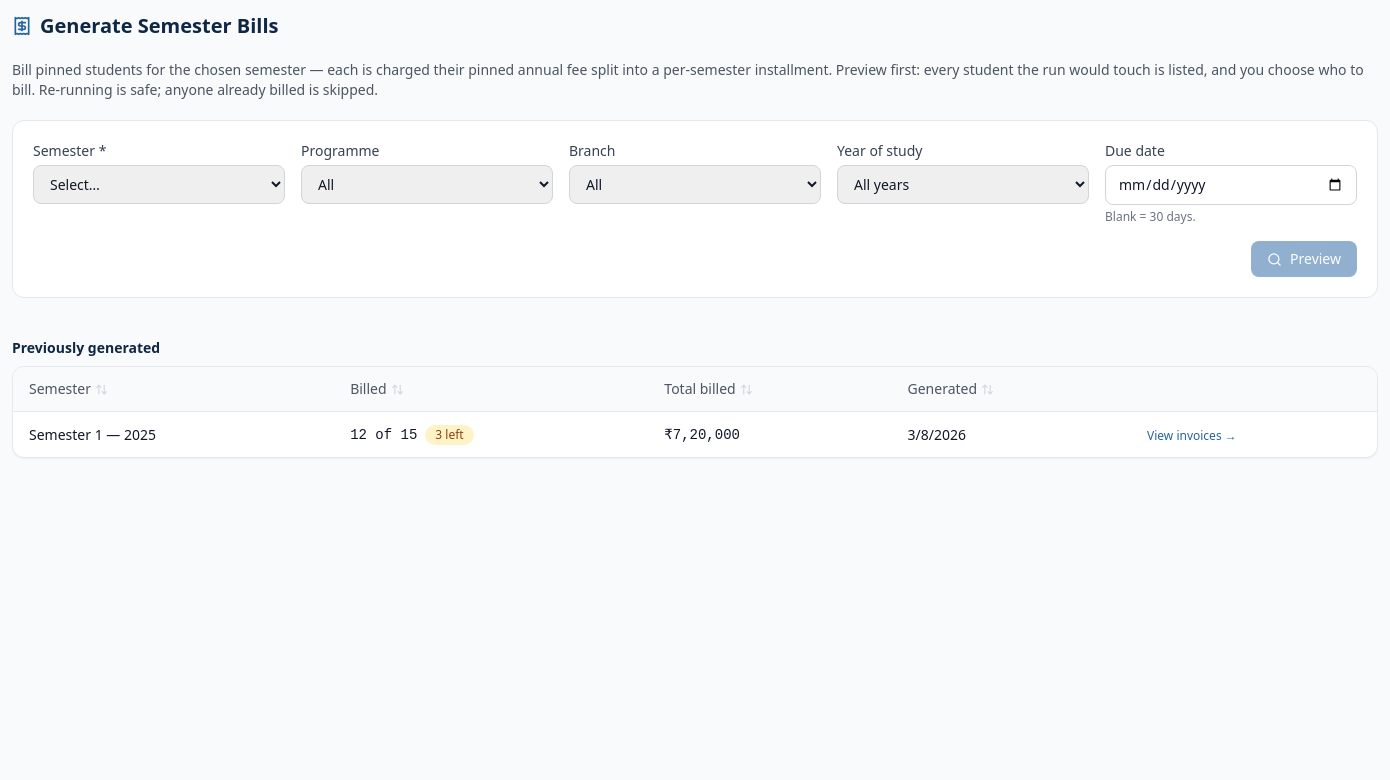
<GenerateBillsPage /> — staleness and gating › distinguishes "nothing matched" from "all already billed" in the empty state
This screenshot has width=1390, height=780.
Select "Semester 1 — 2025 (active)" in the dropdown labelled "Semester *" at [159, 184], box [33, 165, 285, 204]
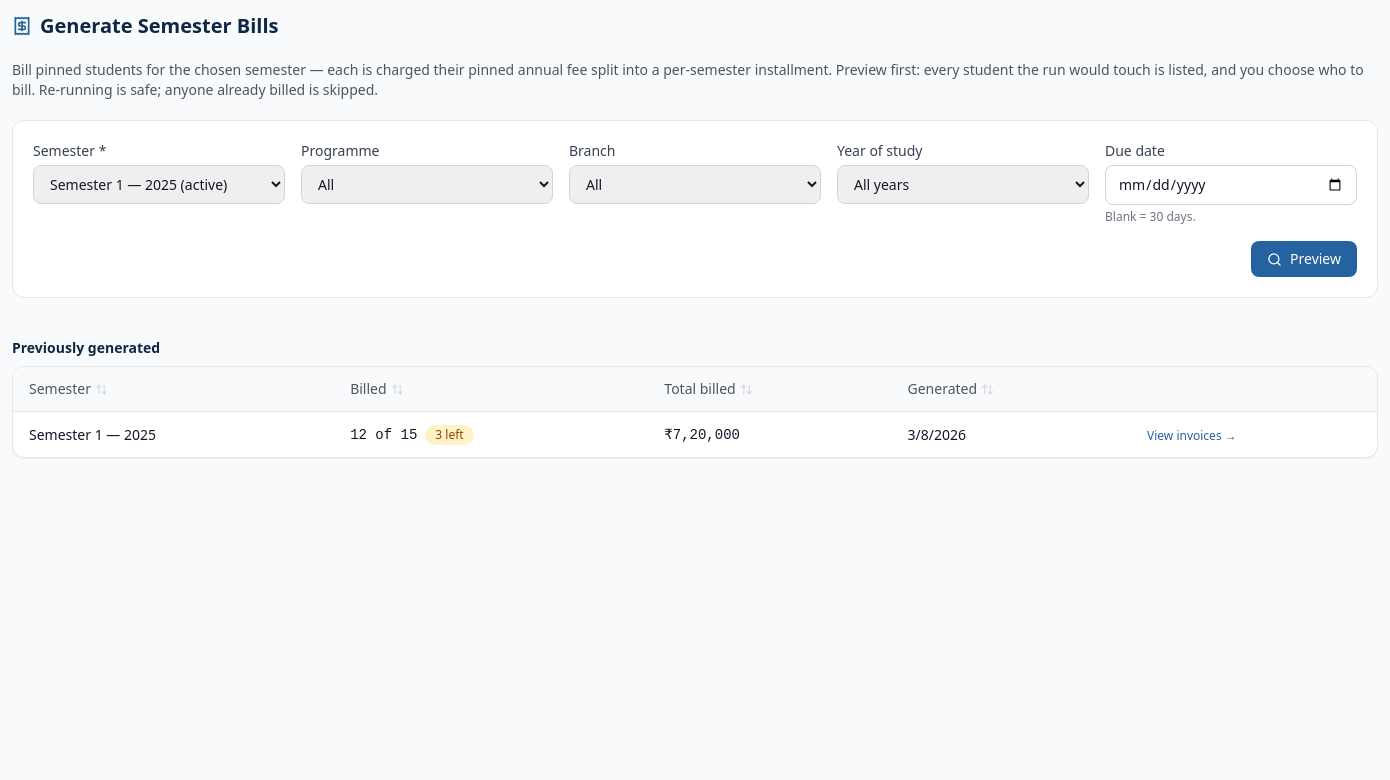
Click the button "Preview".
click(1304, 259)  # box [1251, 241, 1357, 277]
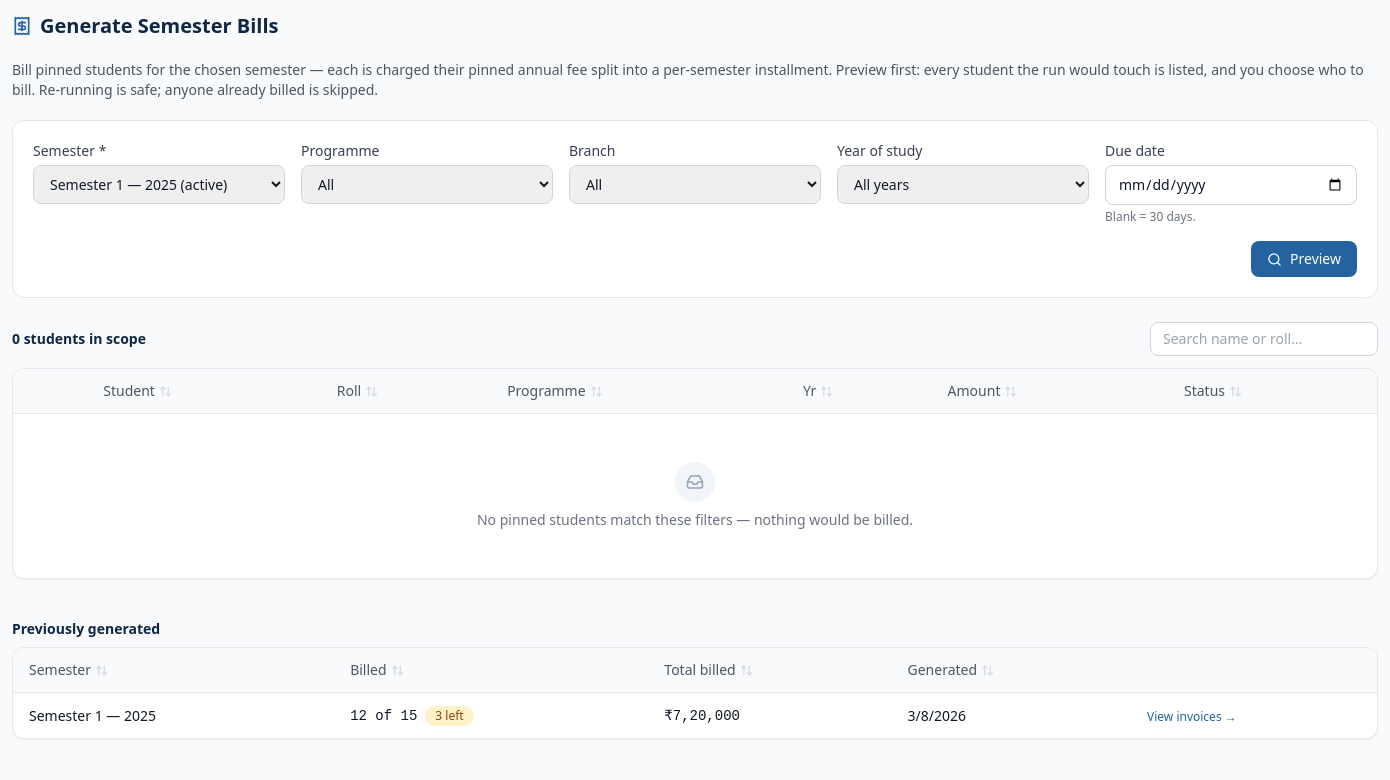
Expected: the text "No pinned students match these filters" is shown, [477, 510, 913, 529]
